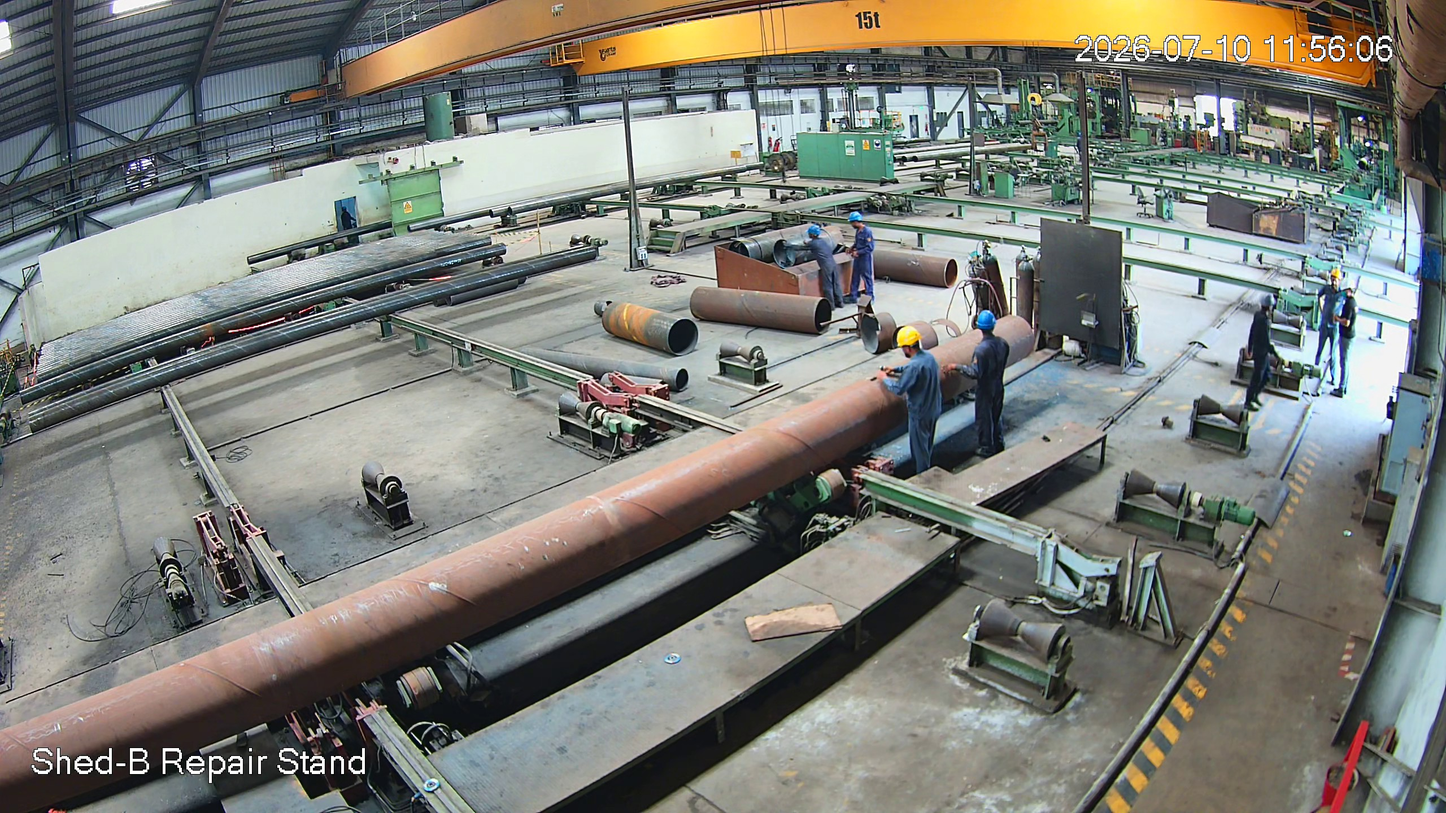Helmet: (891, 324, 929, 362), (972, 307, 1003, 343), (845, 207, 872, 235), (1256, 289, 1279, 320), (806, 219, 827, 247), (1325, 265, 1341, 293)
Person: (886, 327, 947, 479), (964, 310, 1017, 458), (1253, 291, 1285, 425), (1312, 269, 1343, 395), (845, 209, 884, 305), (802, 223, 845, 309), (1335, 276, 1359, 410)
